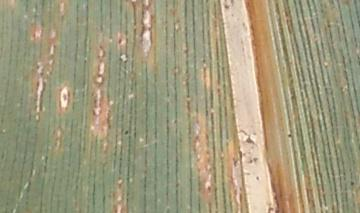tarspot: (61, 91, 68, 103), (222, 3, 230, 12), (122, 129, 130, 136), (286, 132, 293, 139), (266, 206, 273, 213), (117, 37, 123, 45), (254, 174, 260, 182), (349, 180, 355, 187), (229, 1, 234, 7), (222, 1, 228, 3)
